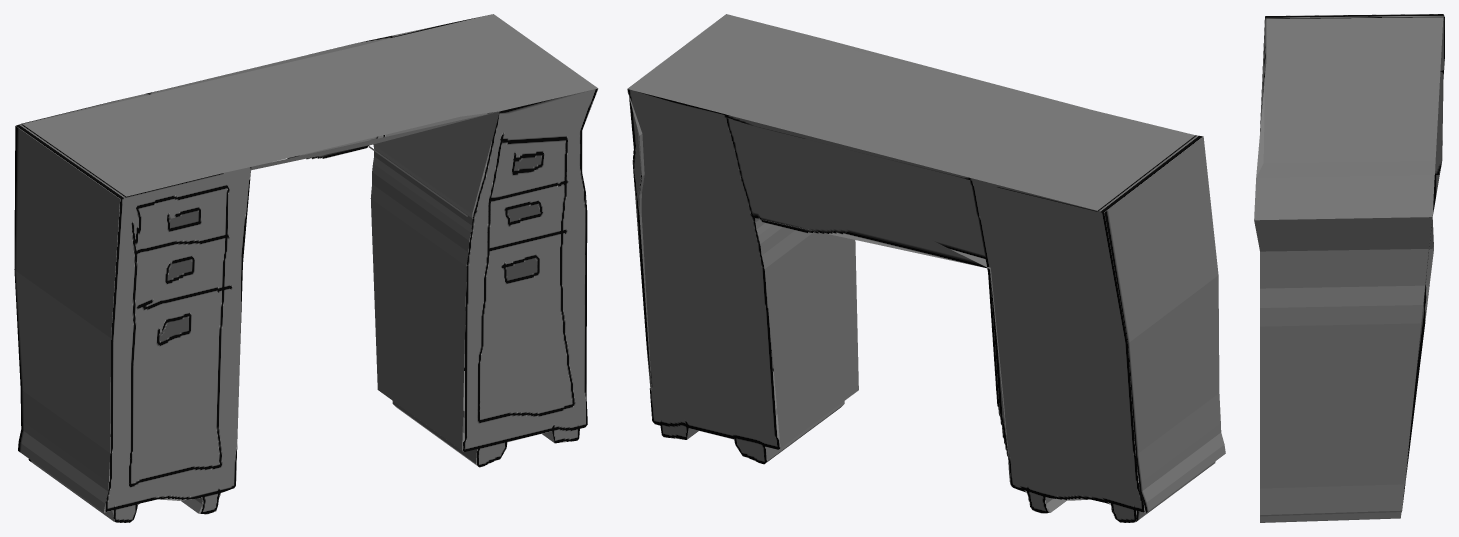
Rendered from desklmao.fbx.
The picture shows the model from 3 angles, left to right: view 1: azimuth 30°, elevation 25°; view 2: azimuth 150°, elevation 25°; view 3: azimuth 270°, elevation 25°; orthographic projection. The views are drawn at different scales.
Visible parts, largest first — view 1: Cube; view 2: Cube; view 3: Cube.
Boxes of the visible parts, x1=… form: Cube: x1=14, y1=14, x2=598, y2=522; Cube: x1=627, y1=14, x2=1225, y2=522; Cube: x1=1254, y1=14, x2=1444, y2=522.
Bounding box in the file's own units: 194 × 133 × 73.07.
